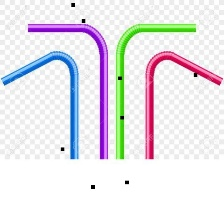drinking_straw: (22, 17, 113, 160), (112, 19, 200, 162), (0, 46, 84, 158), (140, 45, 223, 158)
